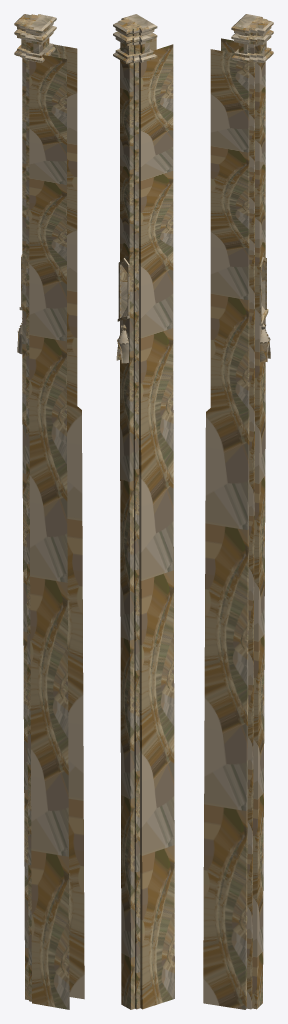
The model's file is SM_pillar_01.fbx.
The picture shows the model from 3 angles, left to right: view 1: azimuth 90°, elevation 25°; view 2: azimuth 150°, elevation 25°; view 3: azimuth 270°, elevation 25°; orthographic projection.
Parts seen in each view (by area): view 1: polySurface32359; view 2: polySurface32359; view 3: polySurface32359.
Boxes of the visible parts, left/top/right/bottom form: polySurface32359: left=14, top=14, right=84, bottom=1009; polySurface32359: left=113, top=14, right=174, bottom=1009; polySurface32359: left=203, top=14, right=273, bottom=1009.
Size of the model in its own units: 2.64 by 63.94 by 4.17.
